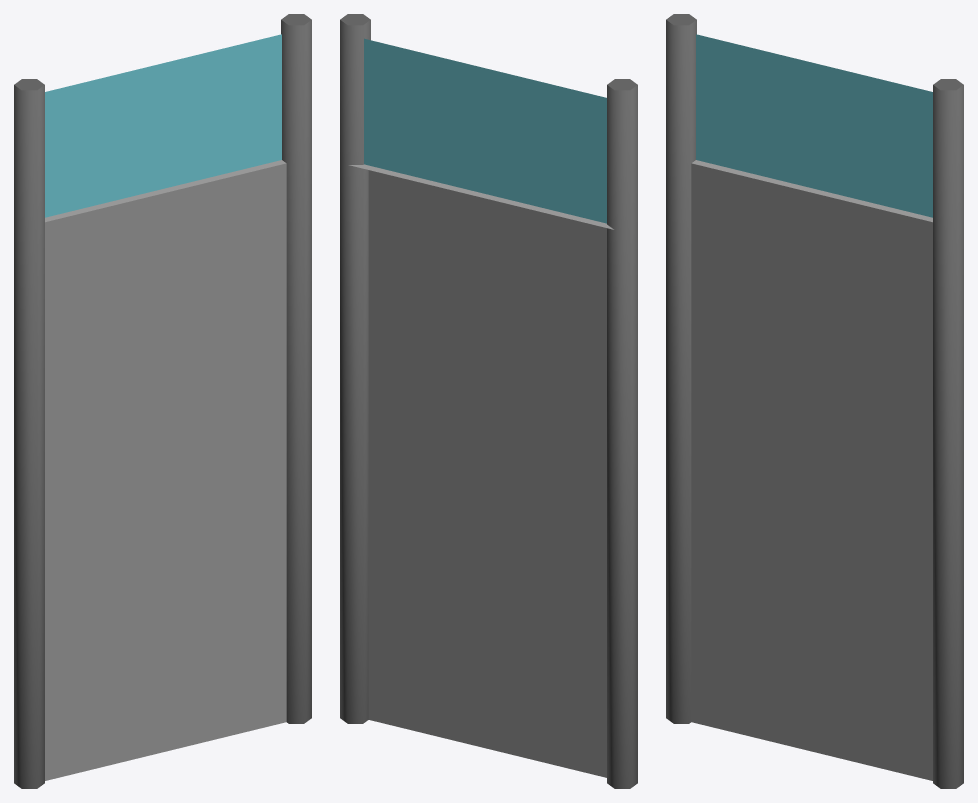
File: Wall1.fbx
3 views of the same model, side by side, from view 1: azimuth 30°, elevation 25°; view 2: azimuth 150°, elevation 25°; view 3: azimuth 330°, elevation 25° (orthographic).
Parts seen in each view (by area): view 1: Wall, Upper Wall, Wall Pivot, Wall Pivot Right; view 2: Wall, Upper Wall, Wall Pivot, Wall Pivot Right; view 3: Wall, Upper Wall, Wall Pivot Right, Wall Pivot.
Part boxes in pixels (box(x1,y1,x2,y2)): Wall: box(45, 160, 286, 780); Upper Wall: box(45, 34, 281, 217); Wall Pivot: box(14, 79, 44, 788); Wall Pivot Right: box(281, 14, 311, 723); Wall: box(349, 164, 613, 777); Upper Wall: box(364, 38, 606, 223); Wall Pivot: box(607, 79, 637, 788); Wall Pivot Right: box(340, 14, 370, 723); Wall: box(691, 160, 932, 780); Upper Wall: box(696, 34, 932, 217); Wall Pivot Right: box(933, 79, 963, 788); Wall Pivot: box(666, 14, 696, 723).
Size of the model in its own units: 217 by 500 by 20.
